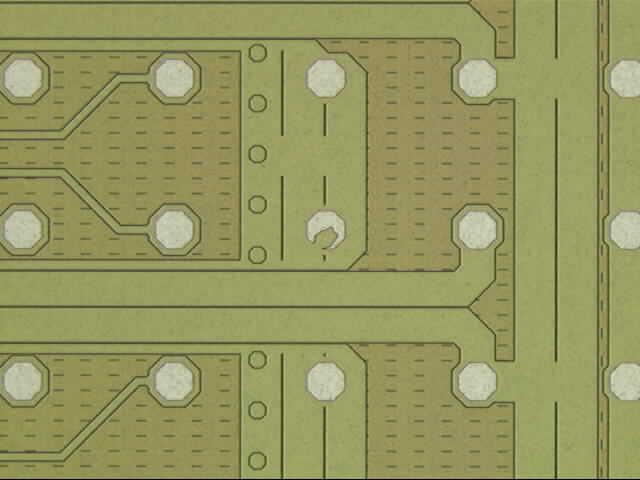BLOCK ETCH: (312, 226, 341, 251)
